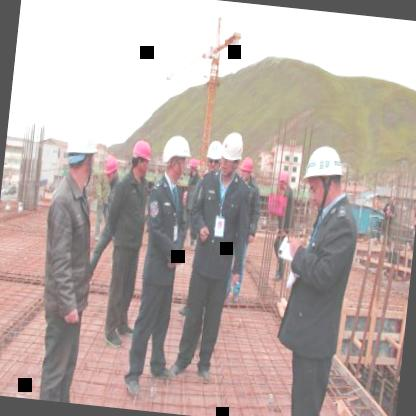helmet: (296, 143, 348, 217), (60, 122, 103, 188), (158, 132, 193, 180), (217, 128, 244, 177), (128, 139, 152, 180), (204, 137, 223, 175), (236, 154, 254, 184), (103, 154, 120, 184), (275, 169, 292, 190), (186, 155, 200, 179)
